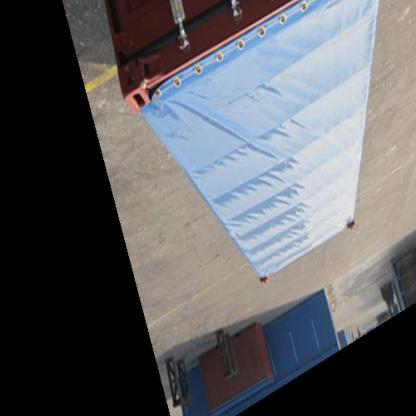Damage: (122, 50, 164, 93)
